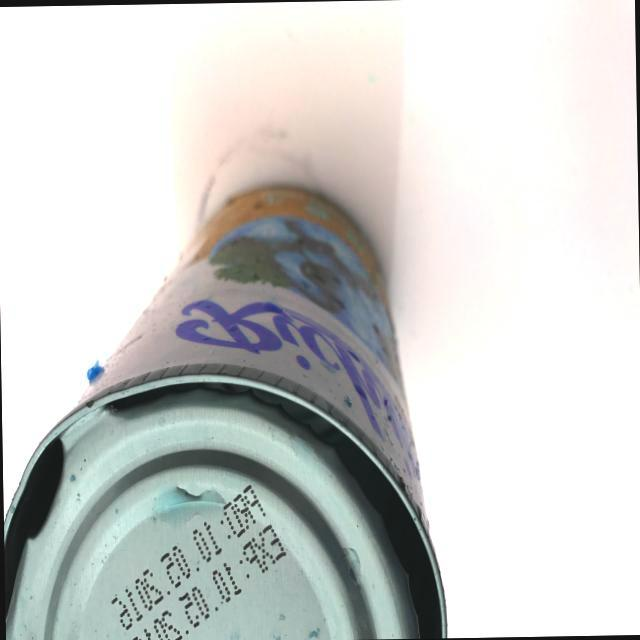metal: (0, 163, 464, 640)
